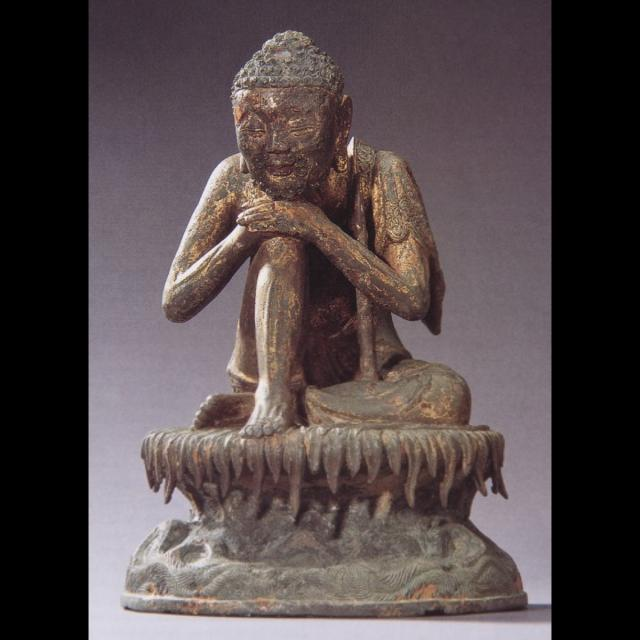buddha-sitting: (131, 41, 508, 544)
